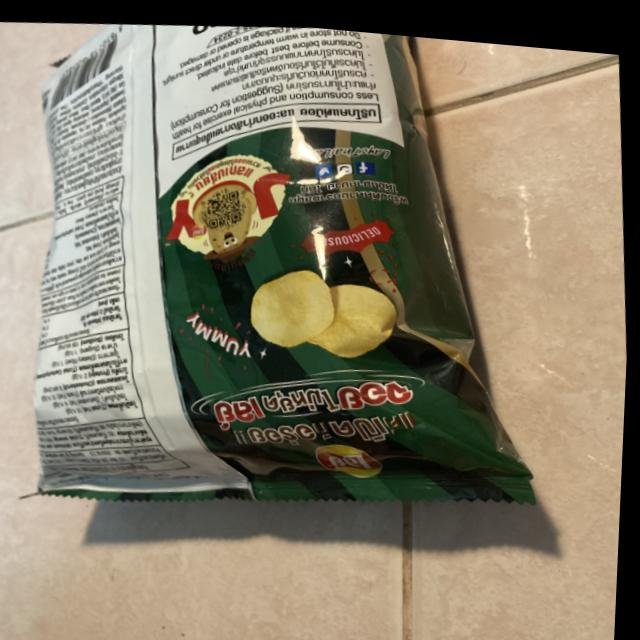Laygreen: (0, 0, 556, 605)
